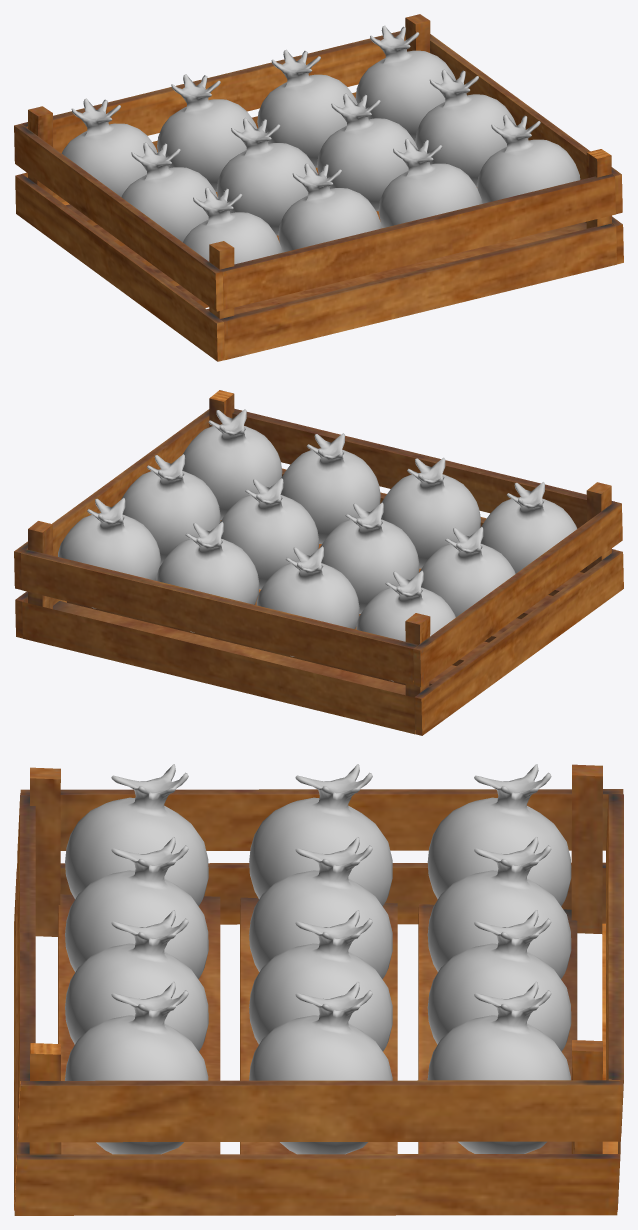
File: Pomegranate.fbx
The picture shows the model from 3 angles, top to bottom: view 1: azimuth 30°, elevation 25°; view 2: azimuth 150°, elevation 25°; view 3: azimuth 270°, elevation 25°; orthographic projection. The views are drawn at different scales.
Parts seen in each view (by area): view 1: Rack.007, Pomegranate_Pomegranate_0.006, Pomegranate_Pomegranate_0.005, Pomegranate_Pomegranate_0.007, Pomegranate_Pomegranate_0.002, Pomegranate_Pomegranate_0.001, Pomegranate_Pomegranate_0.003, Pomegranate_Pomegranate_0.010, Pomegranate_Pomegranate_0.009, Pomegranate_Pomegranate_0.011, Pomegranate_Pomegranate_0.004, Pomegranate_Pomegranate_0 (+1 smaller); view 2: Rack.007, Pomegranate_Pomegranate_0.010, Pomegranate_Pomegranate_0.009, Pomegranate_Pomegranate_0.011, Pomegranate_Pomegranate_0.006, Pomegranate_Pomegranate_0.005, Pomegranate_Pomegranate_0.007, Pomegranate_Pomegranate_0.002, Pomegranate_Pomegranate_0.001, Pomegranate_Pomegranate_0.003, Pomegranate_Pomegranate_0.008, Pomegranate_Pomegranate_0.004 (+1 smaller); view 3: Rack.007, Pomegranate_Pomegranate_0.005, Pomegranate_Pomegranate_0.009, Pomegranate_Pomegranate_0.001, Pomegranate_Pomegranate_0.004, Pomegranate_Pomegranate_0, Pomegranate_Pomegranate_0.008, Pomegranate_Pomegranate_0.010, Pomegranate_Pomegranate_0.006, Pomegranate_Pomegranate_0.002, Pomegranate_Pomegranate_0.003, Pomegranate_Pomegranate_0.007 (+1 smaller).
Part boxes in pixels (<box>): Rack.007: <box>14,14,623,361</box>; Pomegranate_Pomegranate_0.006: <box>317,93,418,211</box>; Pomegranate_Pomegranate_0.005: <box>216,118,317,235</box>; Pomegranate_Pomegranate_0.007: <box>415,69,516,186</box>; Pomegranate_Pomegranate_0.002: <box>257,49,357,167</box>; Pomegranate_Pomegranate_0.001: <box>157,74,257,191</box>; Pomegranate_Pomegranate_0.003: <box>355,25,455,142</box>; Pomegranate_Pomegranate_0.010: <box>378,138,481,228</box>; Pomegranate_Pomegranate_0.009: <box>278,163,381,252</box>; Pomegranate_Pomegranate_0.011: <box>477,114,580,203</box>; Pomegranate_Pomegranate_0.004: <box>121,142,218,242</box>; Pomegranate_Pomegranate_0: <box>61,98,157,196</box>; Rack.007: <box>14,390,623,735</box>; Pomegranate_Pomegranate_0.010: <box>280,433,380,543</box>; Pomegranate_Pomegranate_0.009: <box>381,457,480,568</box>; Pomegranate_Pomegranate_0.011: <box>182,409,282,519</box>; Pomegranate_Pomegranate_0.006: <box>219,478,318,589</box>; Pomegranate_Pomegranate_0.005: <box>319,502,419,613</box>; Pomegranate_Pomegranate_0.007: <box>121,454,220,564</box>; Pomegranate_Pomegranate_0.002: <box>156,522,259,632</box>; Pomegranate_Pomegranate_0.001: <box>256,546,359,656</box>; Pomegranate_Pomegranate_0.003: <box>58,498,160,608</box>; Pomegranate_Pomegranate_0.008: <box>480,482,577,573</box>; Pomegranate_Pomegranate_0.004: <box>419,527,515,617</box>; Rack.007: <box>14,764,623,1215</box>; Pomegranate_Pomegranate_0.005: <box>249,837,392,978</box>; Pomegranate_Pomegranate_0.009: <box>65,837,208,978</box>; Pomegranate_Pomegranate_0.001: <box>427,837,571,978</box>; Pomegranate_Pomegranate_0.004: <box>249,764,392,906</box>; Pomegranate_Pomegranate_0: <box>427,764,571,906</box>; Pomegranate_Pomegranate_0.008: <box>65,764,208,906</box>; Pomegranate_Pomegranate_0.010: <box>65,910,208,1051</box>; Pomegranate_Pomegranate_0.006: <box>249,910,392,1051</box>; Pomegranate_Pomegranate_0.002: <box>427,910,571,1051</box>; Pomegranate_Pomegranate_0.003: <box>427,981,570,1153</box>; Pomegranate_Pomegranate_0.007: <box>249,981,392,1154</box>.
Bounding box in the file's own units: 0.6471 × 0.1859 × 0.563.
